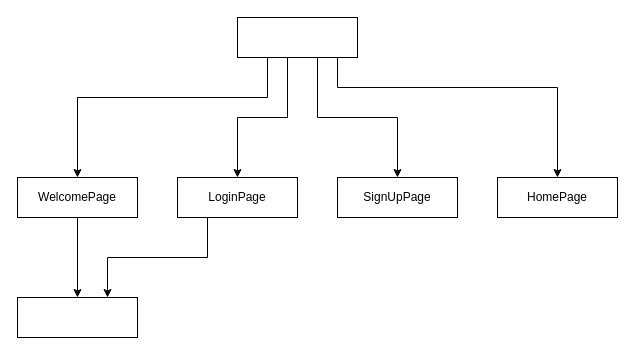
The diagram is 635 pixels wide and 355 high, and some of its shapes have lost their labels. The shapes that lost their labels are listed below. From the top down, each one's box as (x1, y1, x2, y2) in pixels, then its label:
(236, 16, 358, 58): App
(16, 296, 138, 338): TopNavBar
